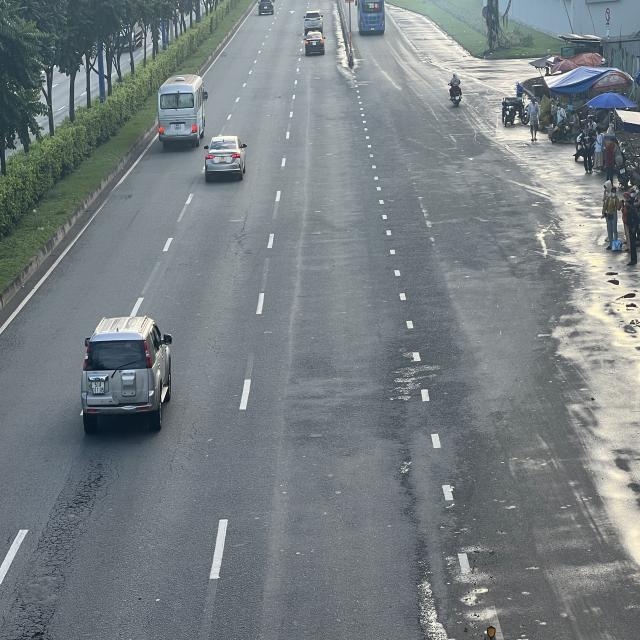car: (81, 315, 175, 429), (202, 135, 246, 181)
coach: (160, 72, 210, 146), (355, 0, 385, 35)
